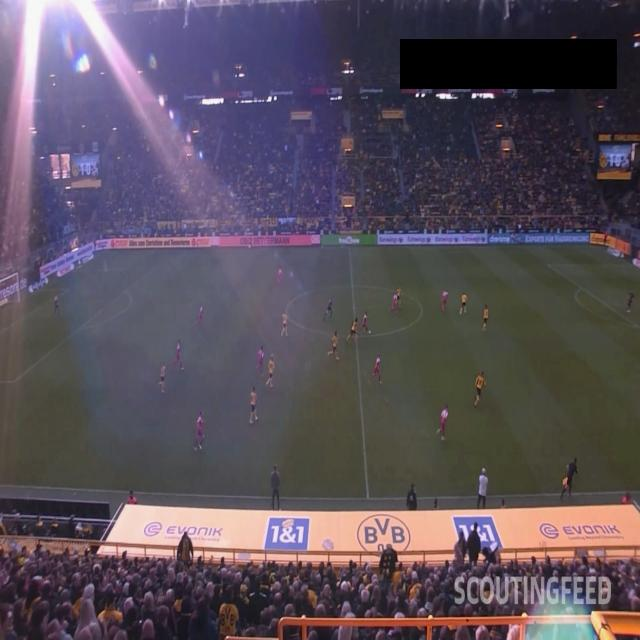f_player: (270, 466, 282, 508), (476, 469, 488, 509), (438, 405, 450, 441), (474, 371, 486, 406)
